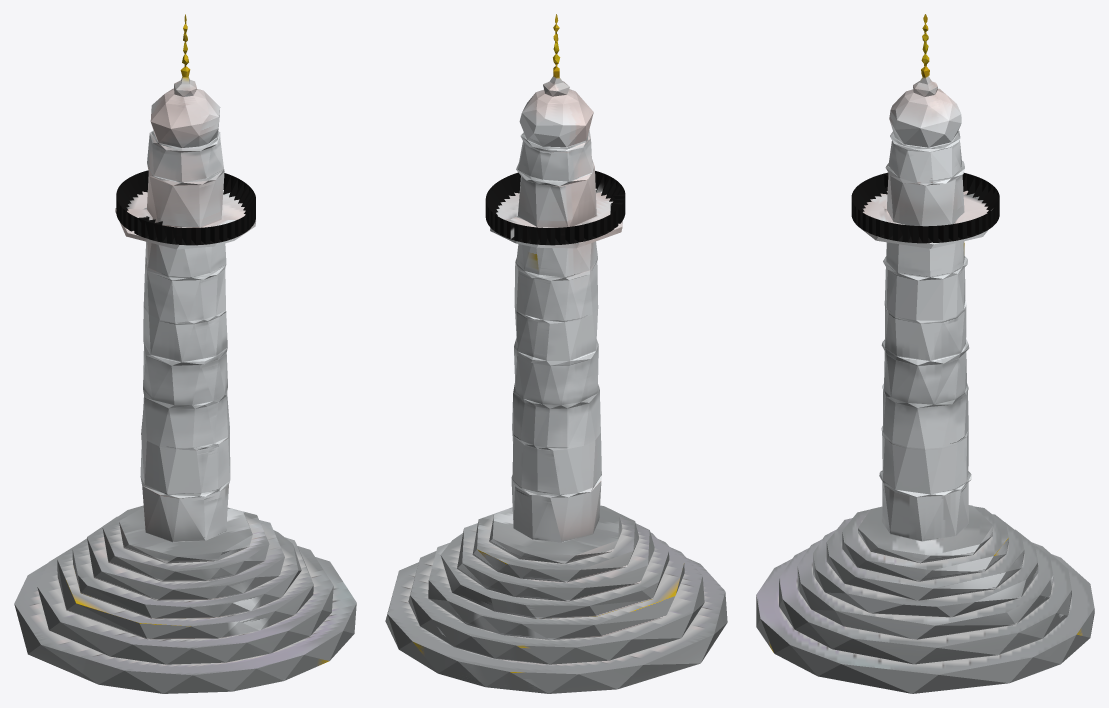
File: lowpolydharahara.fbx
3 renders of one model, left to right at view 1: azimuth 30°, elevation 25°; view 2: azimuth 150°, elevation 25°; view 3: azimuth 270°, elevation 25°, orthographic.
Visible parts, largest first — view 1: Cylinder; view 2: Cylinder; view 3: Cylinder.
Boxes of the visible parts, left/top/right/bottom form: Cylinder: left=14, top=14, right=356, bottom=693; Cylinder: left=385, top=14, right=727, bottom=693; Cylinder: left=756, top=14, right=1094, bottom=693.
Size of the model in its own units: 2080 by 2022 by 4000.
2 materials, 2 textured.
